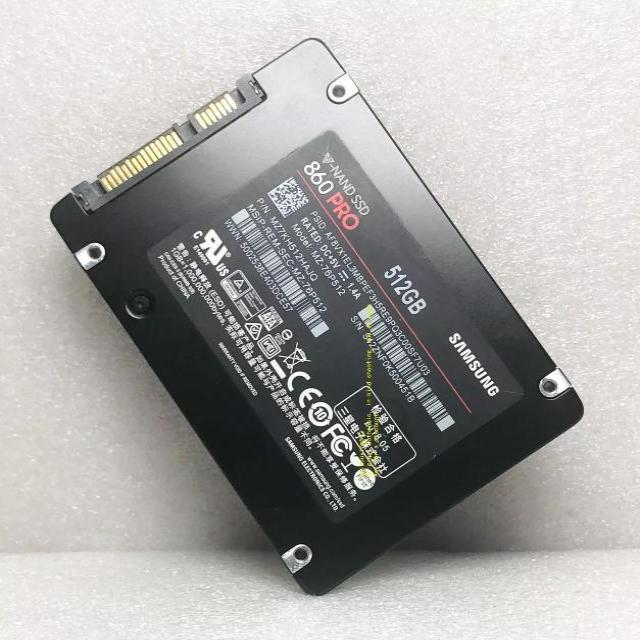DISK: (47, 36, 588, 600)
